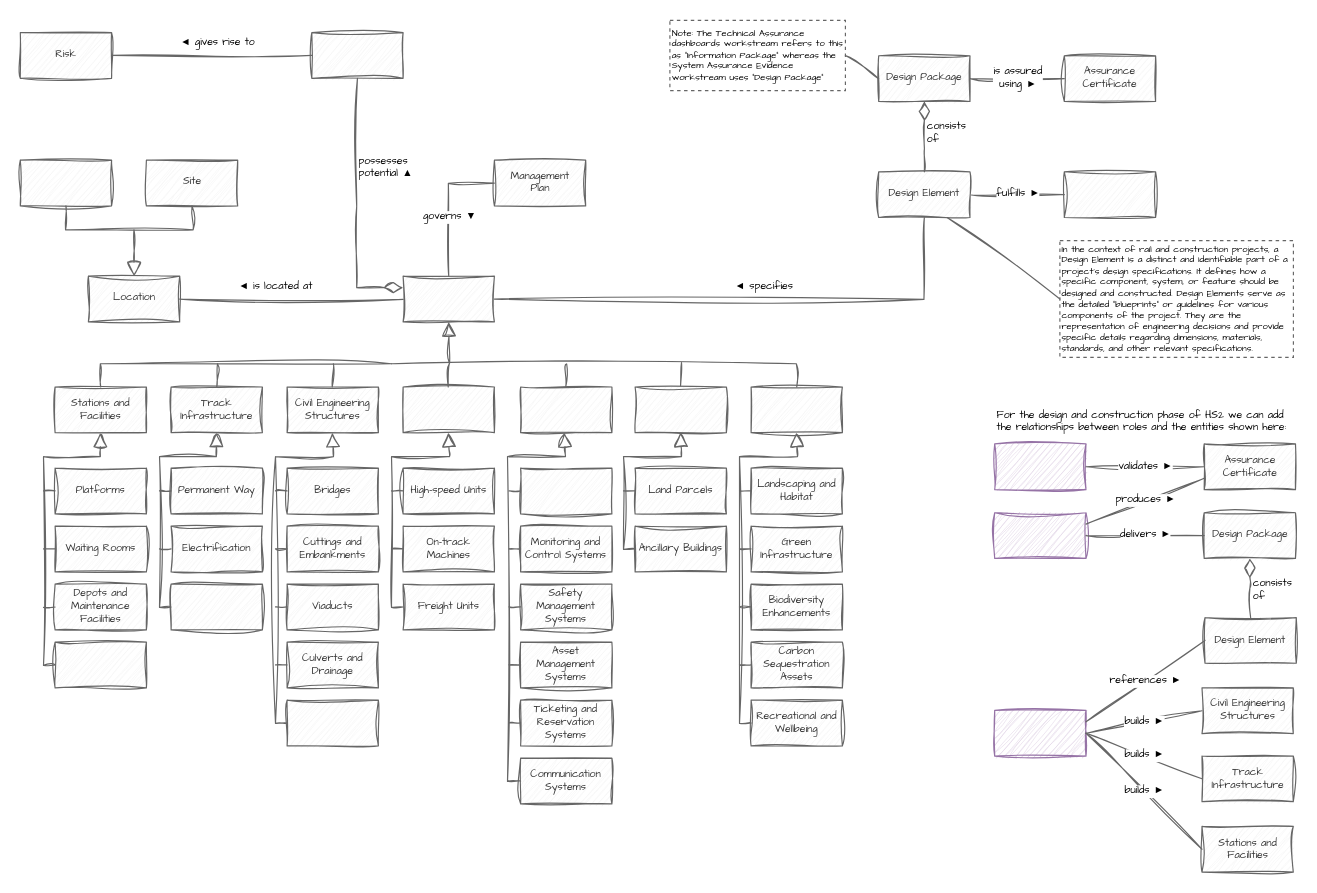
This 1317x893 diagram has some shape labels left out. Here are the shapes that lost their labels. From the top down, the box of each, then its label:
(311, 31, 403, 78): Hazard
(19, 159, 112, 206): Geospatial
(1063, 171, 1156, 217): Requirement
(402, 275, 494, 322): Asset
(402, 386, 494, 433): Rolling Stock
(519, 386, 612, 433): System
(634, 386, 726, 433): Land and Property
(750, 386, 842, 433): Environmental Assets
(994, 443, 1086, 490): Project Client
(519, 467, 612, 514): Train Control Systems
(994, 512, 1086, 558): Design Consultant
(170, 583, 262, 630): Signaling
(54, 641, 146, 688): Ticket Offices and Machines
(286, 699, 378, 746): Tunnels
(994, 709, 1086, 756): Contractor
